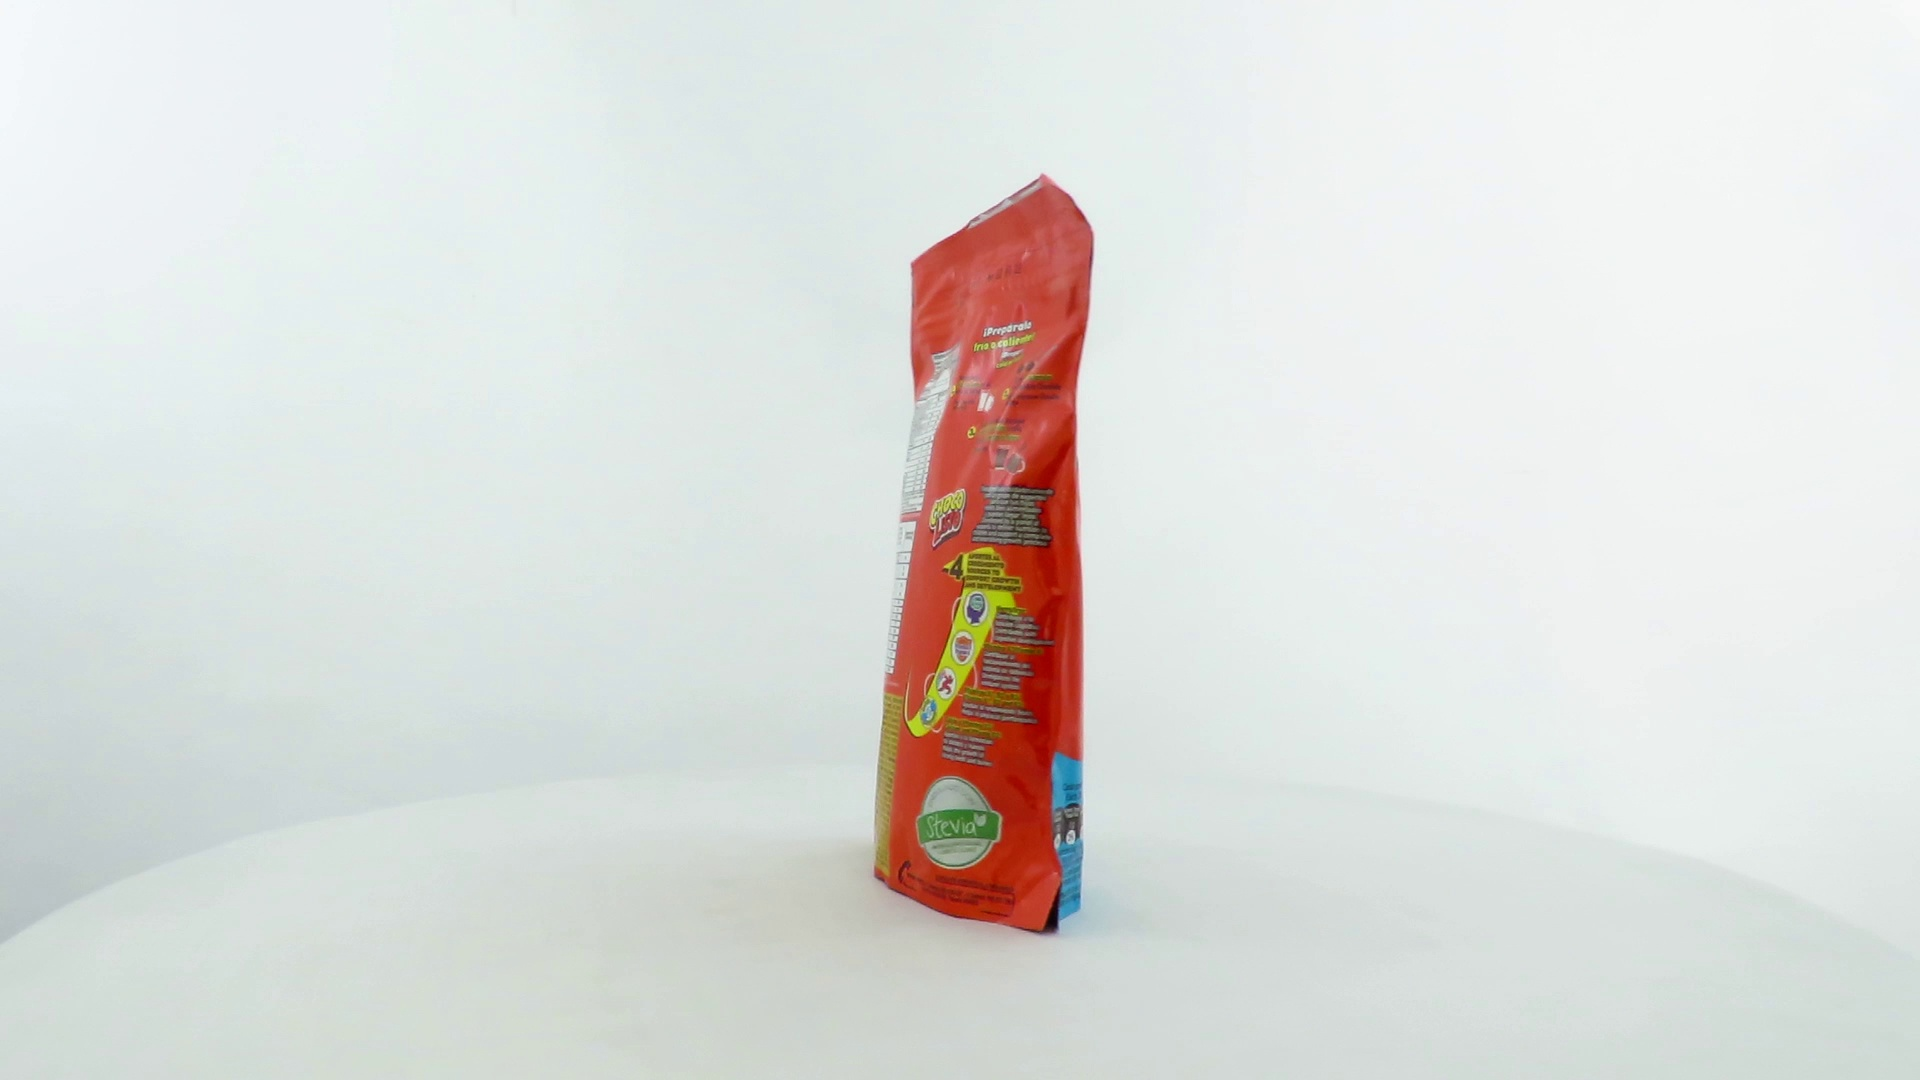COL0170104DYP20000: (868, 167, 1100, 942)
